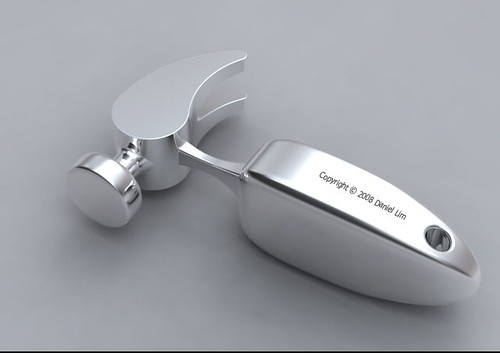hammer: (62, 45, 482, 313)
